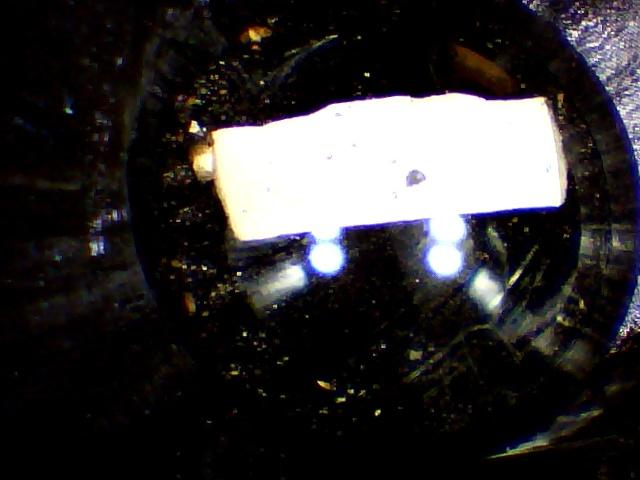megot: (163, 76, 583, 260)
